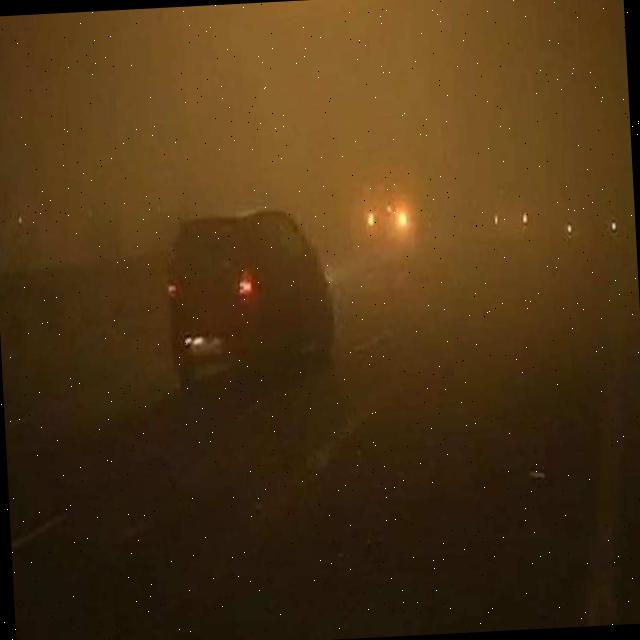car: (162, 198, 338, 396), (558, 169, 626, 254), (362, 166, 421, 244), (492, 186, 545, 240)
